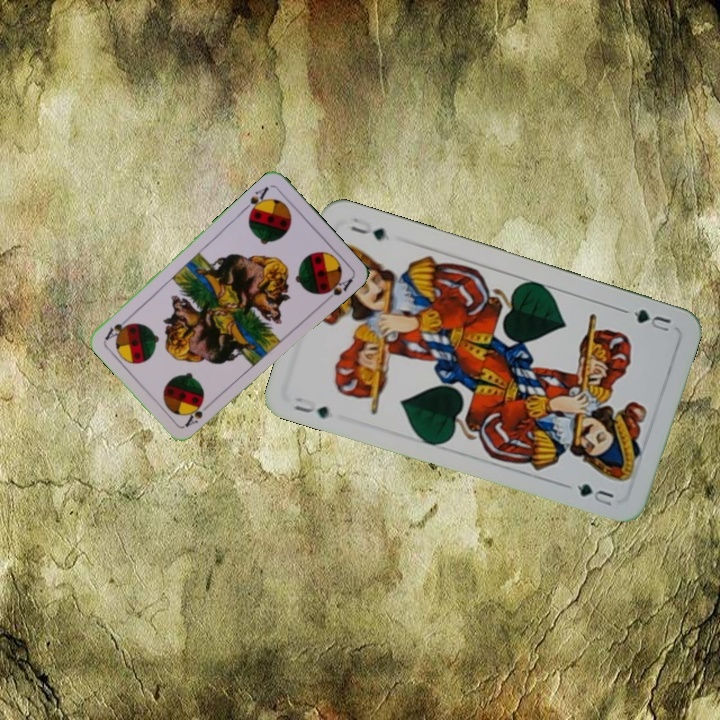GU: (629, 305, 674, 335), (290, 393, 332, 421)
SA: (180, 396, 214, 430), (240, 182, 272, 218)
